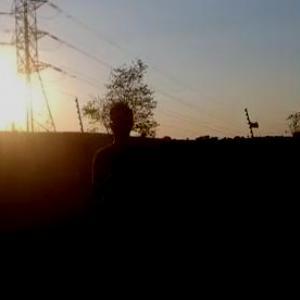follow: (90, 96, 163, 299)
